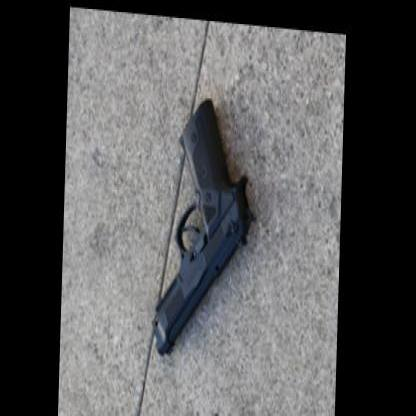pistol: (151, 89, 257, 360)
